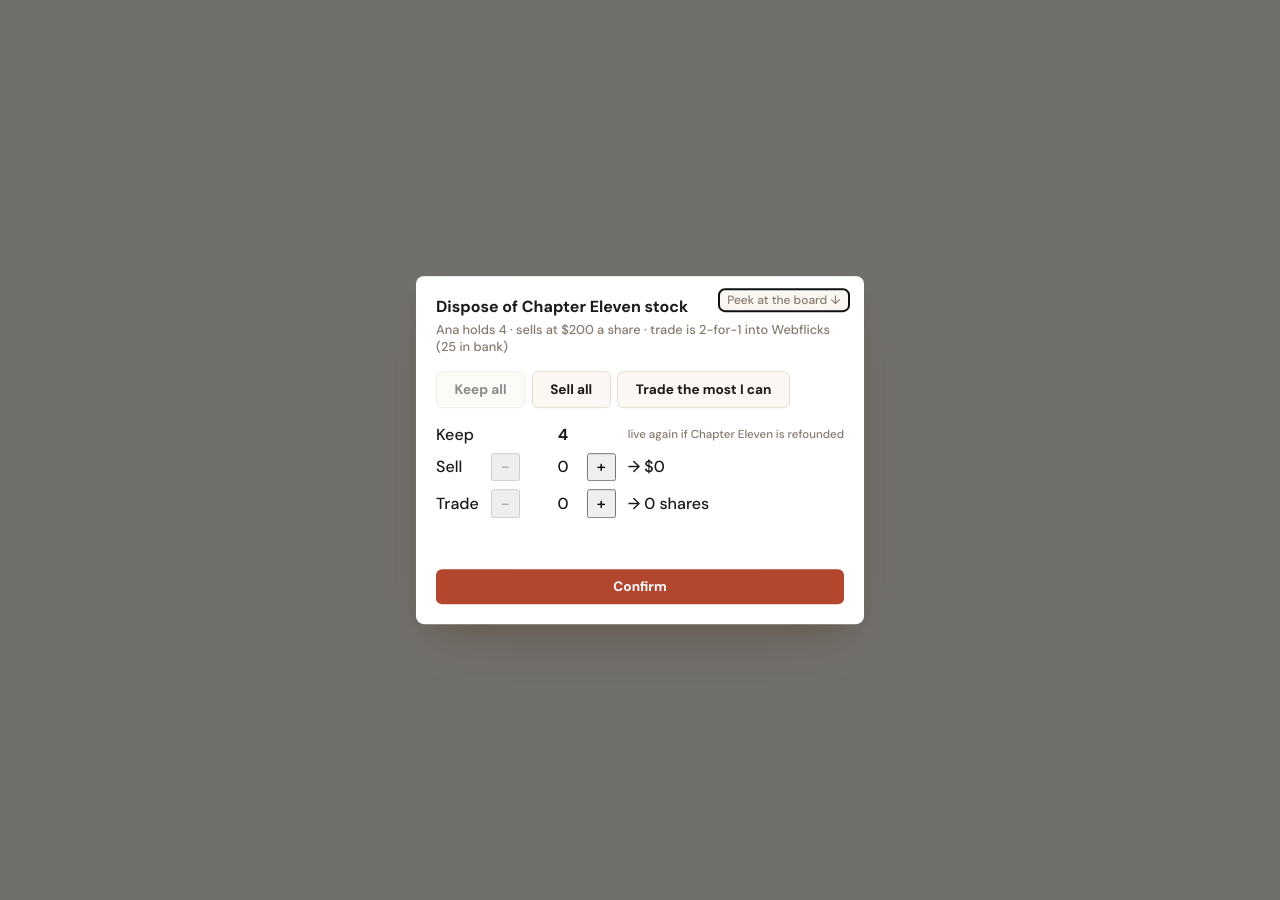
Scenario: DecisionModal › keeps everything in one press, and says so before you touch anything
Expected: the button "Keep all" is disabled, left=436, top=371, right=525, bottom=408
Expected: the text named "hold" reads "4", left=558, top=424, right=568, bottom=445
// Step away and back: keeping is reachable in one action, not by undoing.
Click the button named "sell more" at (601, 467), box left=587, top=453, right=616, bottom=482
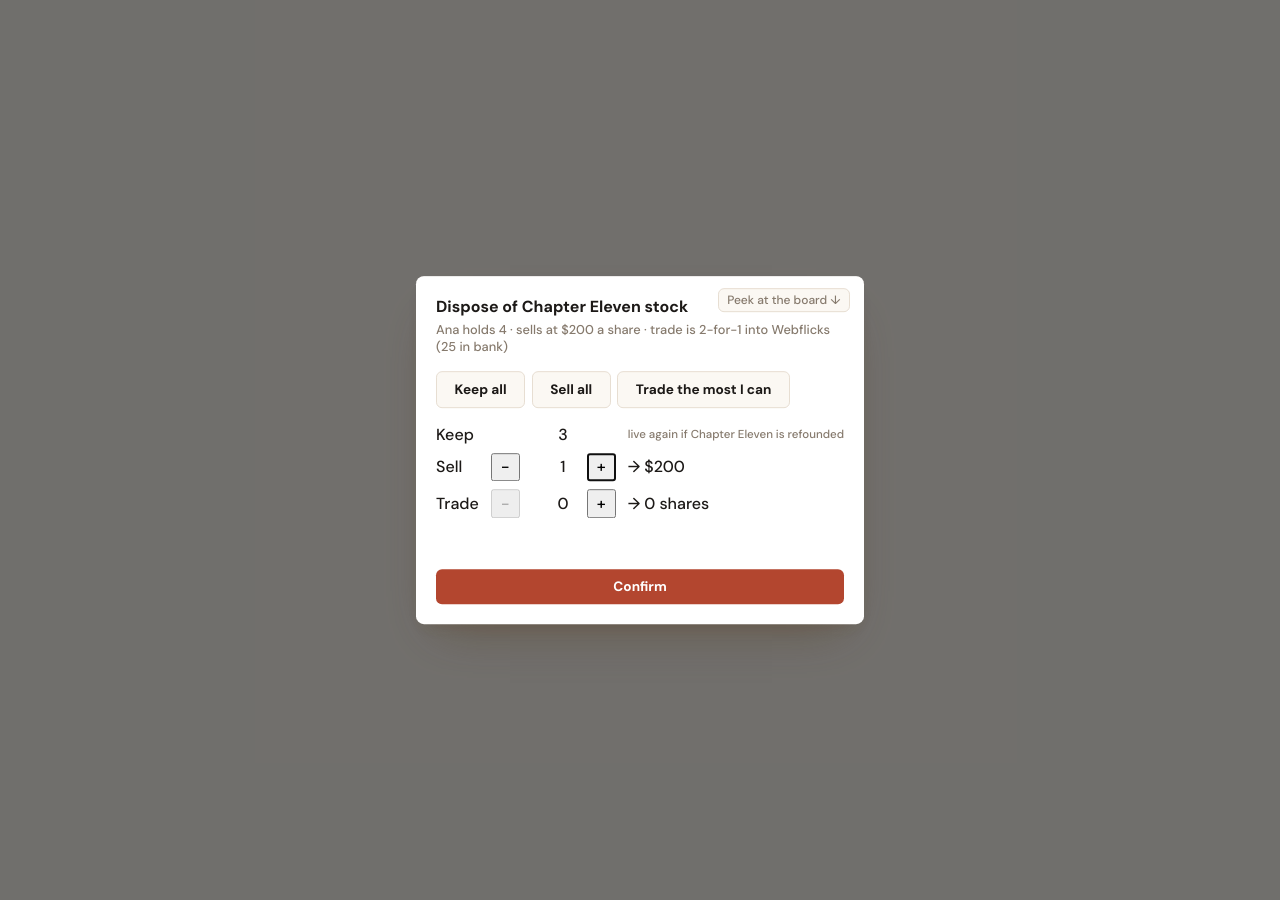
Expected: the text named "hold" reads "3", left=558, top=424, right=568, bottom=445
Expected: the button "Keep all" is enabled
Click the button "Keep all" at (481, 390), box left=436, top=371, right=525, bottom=408
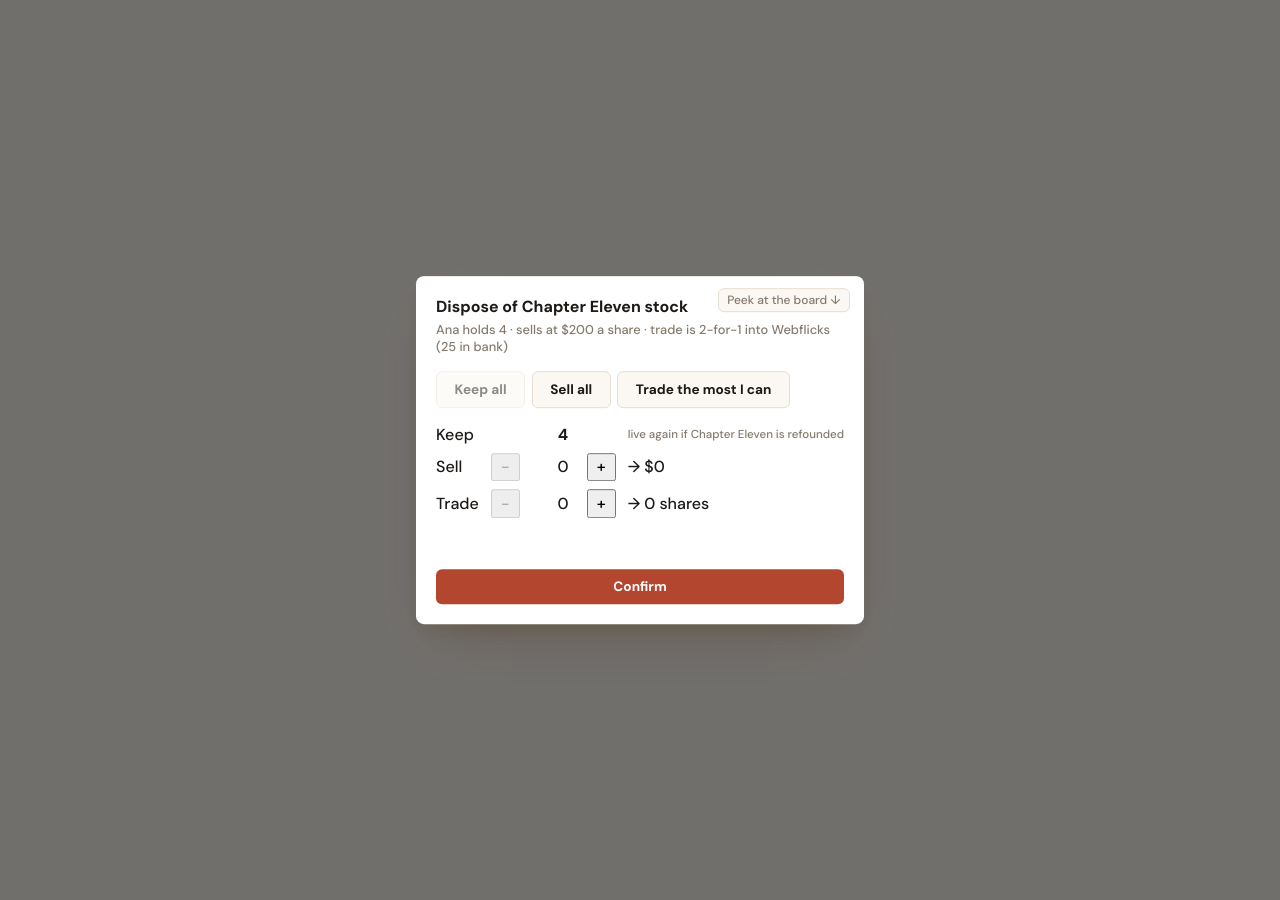
Expected: the text named "hold" reads "4", left=558, top=424, right=568, bottom=445
Expected: the text named "sell" reads "0", left=557, top=457, right=568, bottom=478
